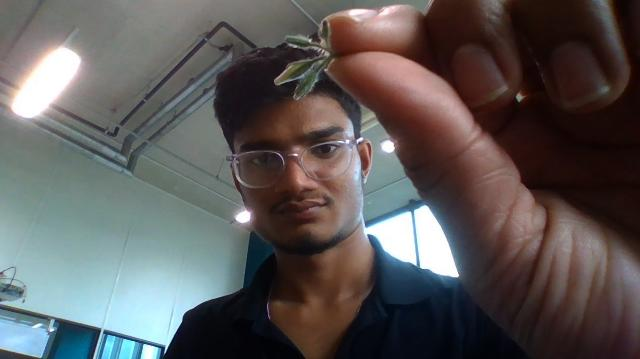Flower Bud: (272, 56, 322, 86), (283, 35, 321, 49), (319, 18, 331, 45)
